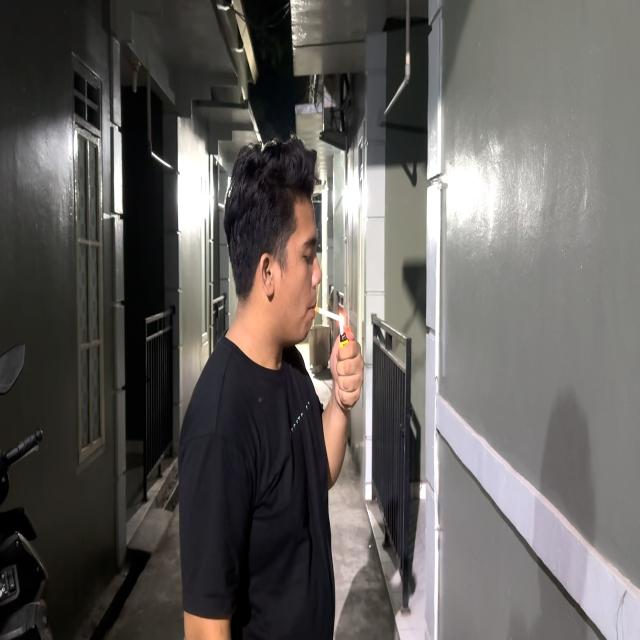cigarette: (304, 297, 352, 334)
smoking: (217, 122, 375, 508)
